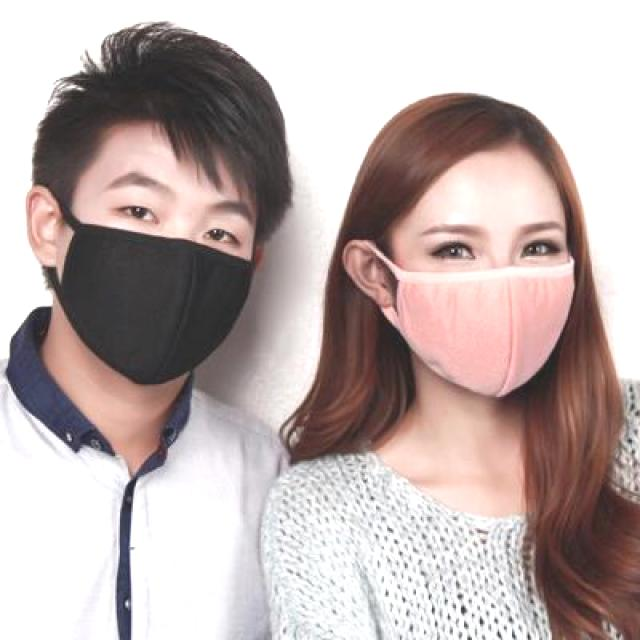face_mask: (54, 168, 258, 390), (395, 214, 576, 405)
head_nohelmet: (77, 45, 296, 179), (374, 91, 572, 218)
